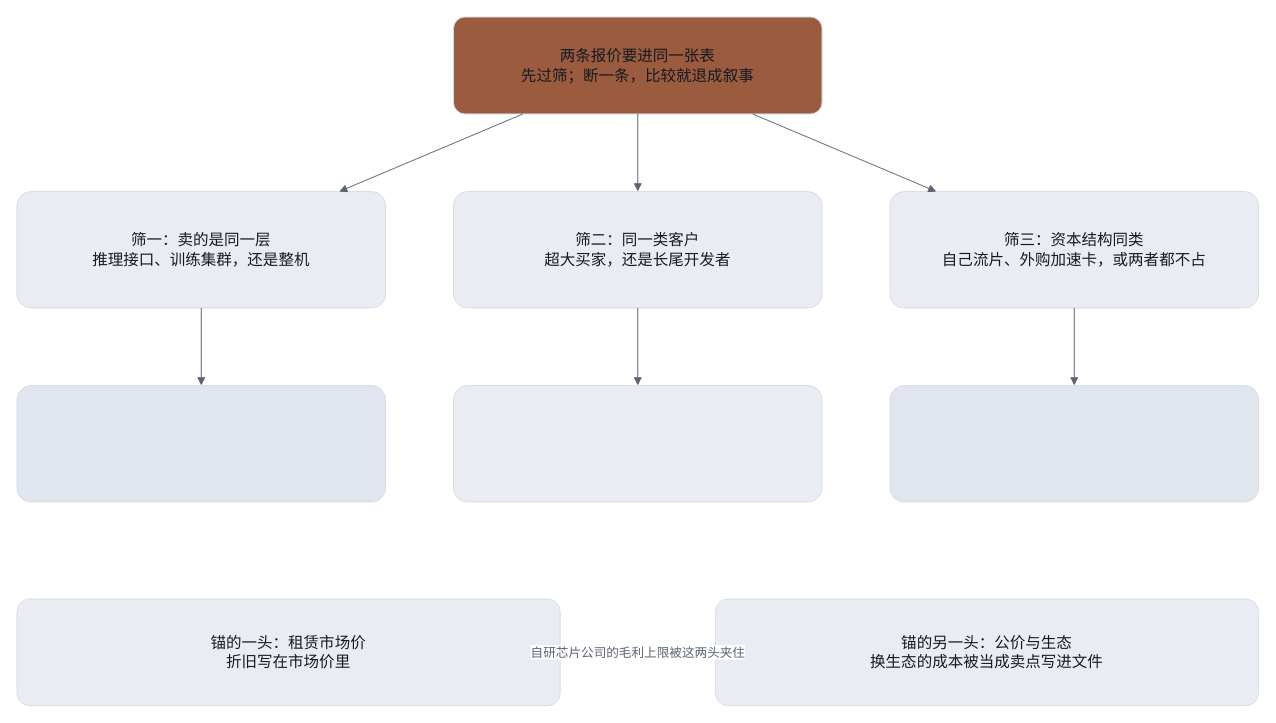
This 1276x723 diagram has some shape labels left out. Each missing label, with the centre of its shape:
拉开的是档位与区域 优先级与地域各乘一档: the point at 637,443
自研芯片没出现在标价里 几家把同一份权重标成同一串数字: the point at 201,443
速度数字不能直接对照 模型、量化、上下文、是否含排队，任一项不同即不可比: the point at 1074,443
